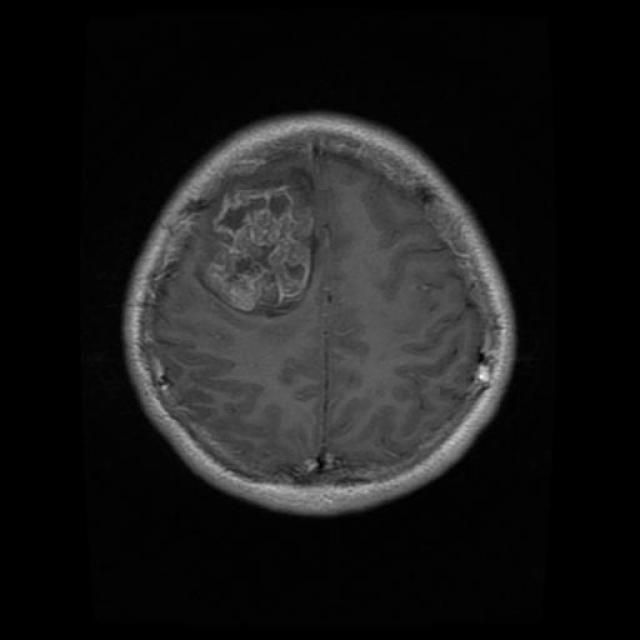glioma: (205, 190, 313, 308)
